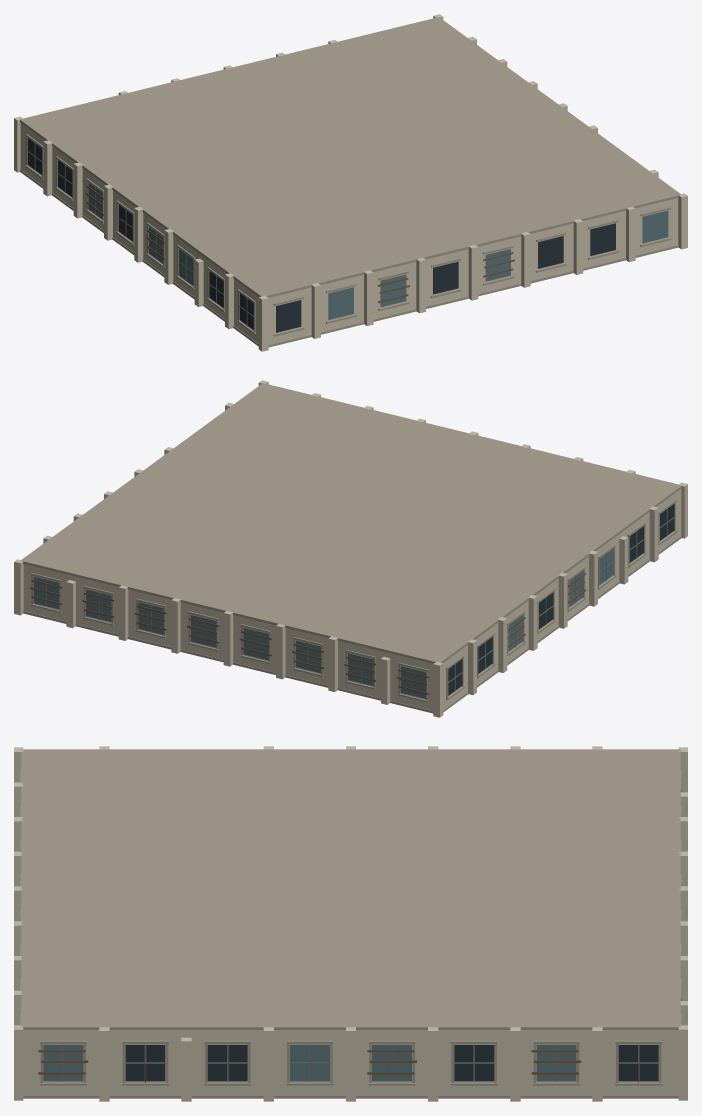
The model's file is tw_stone_32_floor_b.glb.
3 views of the same model, one above another, from view 1: azimuth 30°, elevation 25°; view 2: azimuth 150°, elevation 25°; view 3: azimuth 270°, elevation 25° (orthographic). The views are drawn at different scales.
Visible parts, largest first — view 1: tw_stone_32_floor_b; view 2: tw_stone_32_floor_b; view 3: tw_stone_32_floor_b.
Boxes of the visible parts, x1,y1,x2,y2 form: tw_stone_32_floor_b: [14, 14, 687, 351]; tw_stone_32_floor_b: [14, 380, 687, 717]; tw_stone_32_floor_b: [14, 746, 687, 1101].
Size of the model in its own units: 32.99 by 3.8 by 32.8.
Materials: 3 (3 with a texture image).
